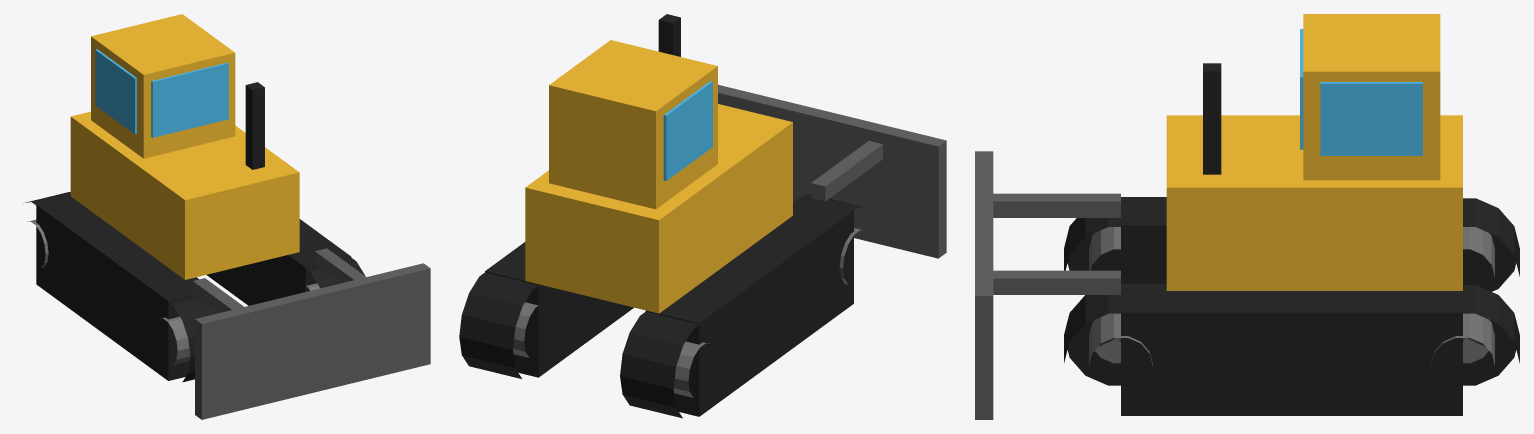
The model's file is bulldozer.glb.
3 views of the same model, side by side, from view 1: azimuth 30°, elevation 25°; view 2: azimuth 150°, elevation 25°; view 3: azimuth 270°, elevation 25° (orthographic). The views are drawn at different scales.
Visible parts, largest first — view 1: bulldozer; view 2: bulldozer; view 3: bulldozer.
Part boxes in pixels (box(x1,y1,x2,y2)): bulldozer: box(23, 14, 430, 419); bulldozer: box(459, 14, 946, 418); bulldozer: box(975, 14, 1519, 419).
Size of the model in its own units: 1.5 by 1.52 by 2.39.
